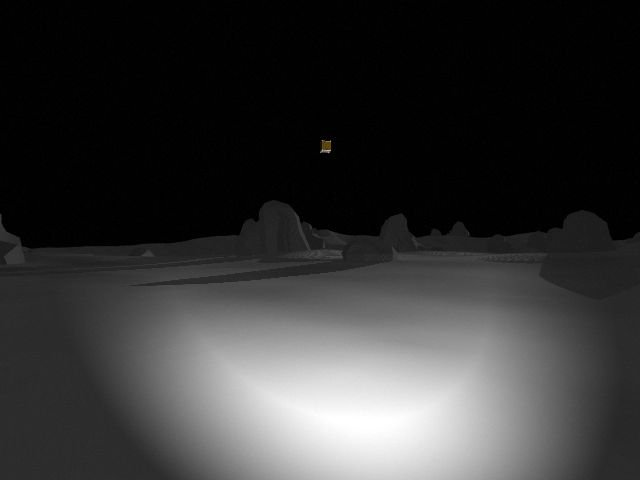cubesat: (315, 136, 337, 157)
